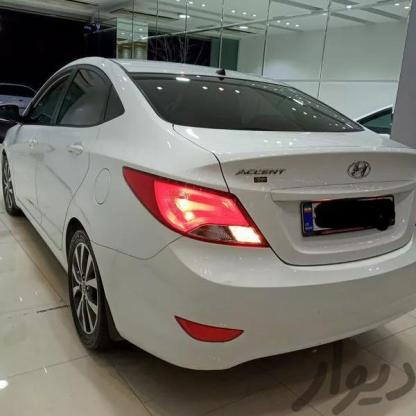Car: (0, 54, 416, 416)
